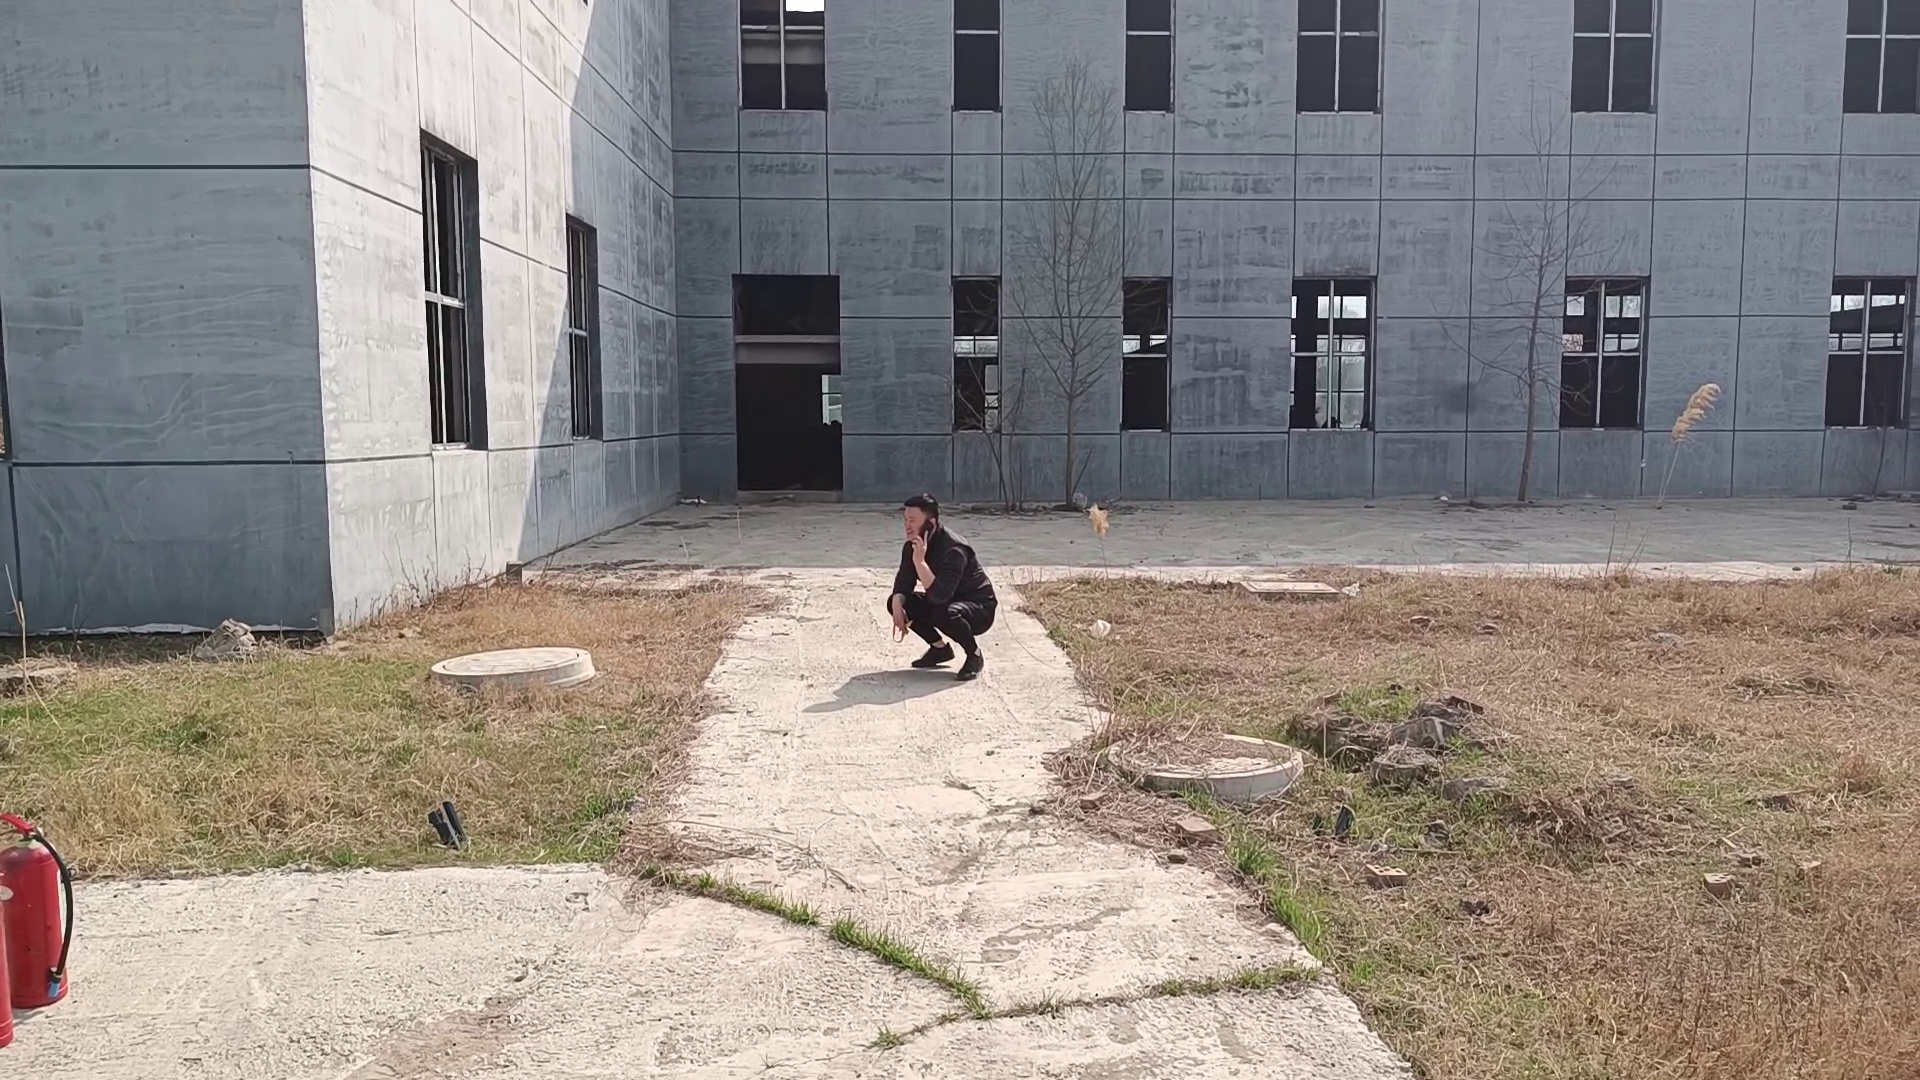phone: (895, 489, 952, 553)
